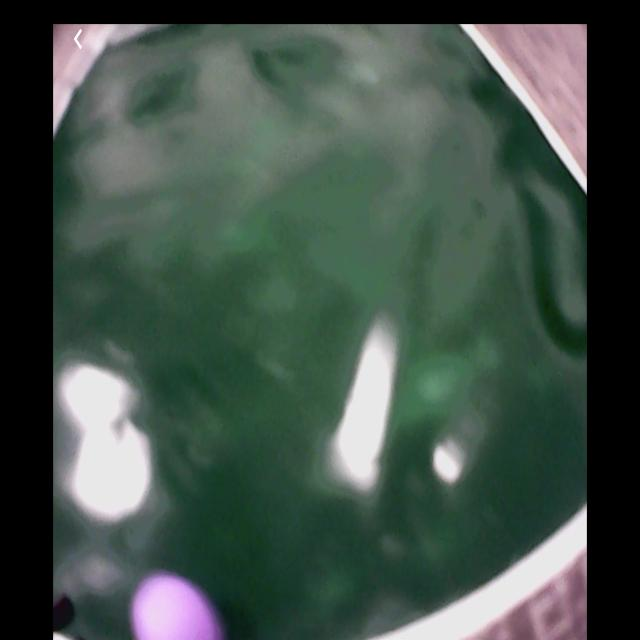ball: (129, 571, 224, 639)
